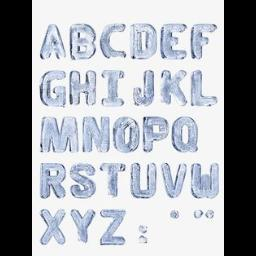a: (98, 20, 132, 64), (38, 20, 68, 66)
b: (69, 18, 101, 60)
d: (127, 18, 159, 64)
f: (192, 20, 220, 60)
g: (36, 67, 70, 109)
h: (66, 66, 100, 112)
i: (101, 70, 129, 108)
j: (134, 71, 160, 111)
k: (158, 64, 194, 112)
l: (189, 69, 223, 109)
m: (36, 116, 82, 154)
n: (82, 114, 116, 158)
o: (114, 113, 144, 155)
q: (174, 116, 206, 158)
r: (160, 16, 190, 66), (40, 162, 70, 198)
s: (70, 162, 108, 204)
t: (99, 160, 129, 200)
u: (130, 161, 162, 205)
v: (158, 158, 192, 208)
w: (188, 160, 224, 200)
x: (37, 202, 69, 246)
y: (74, 204, 94, 248)
z: (98, 202, 132, 254)
